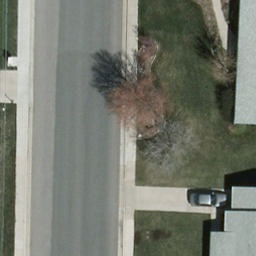car: (189, 191, 230, 207)
